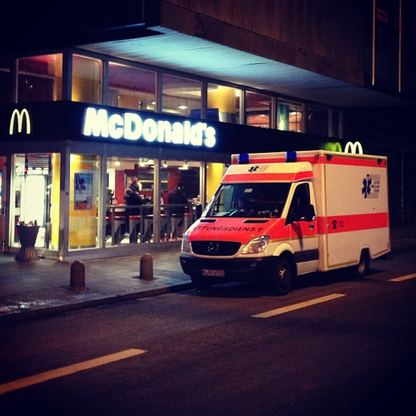ambulance: (178, 149, 394, 294)
